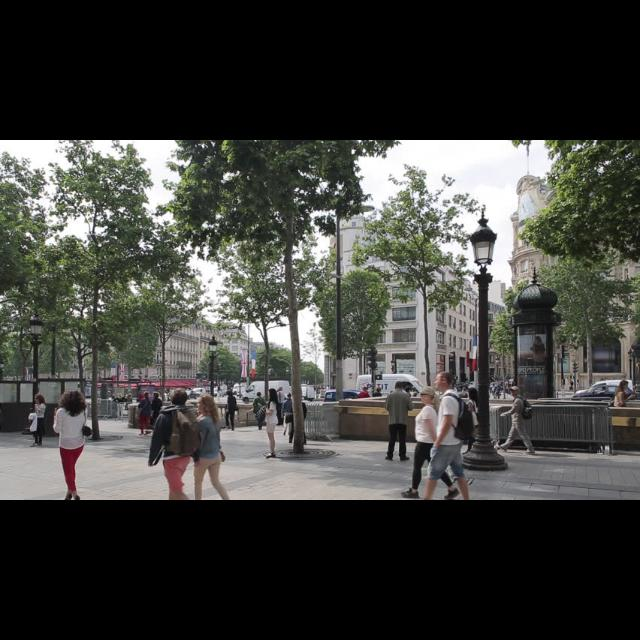head: (434, 372, 454, 392), (171, 388, 189, 408), (420, 387, 436, 407), (66, 390, 82, 408), (198, 396, 215, 412), (468, 389, 479, 401), (395, 382, 405, 393), (34, 395, 44, 405), (268, 390, 278, 400), (510, 388, 520, 398), (621, 380, 629, 390), (152, 394, 160, 401), (144, 392, 150, 400), (256, 392, 262, 398), (288, 394, 292, 400), (228, 392, 232, 396)
person: (497, 386, 538, 456), (384, 381, 416, 464), (254, 388, 280, 460), (612, 380, 638, 448), (462, 387, 482, 457), (28, 393, 48, 449), (223, 389, 240, 433), (252, 392, 270, 432), (148, 392, 164, 436), (138, 391, 152, 437), (281, 393, 295, 437)
